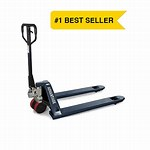Pallet Jack: (20, 23, 126, 119)
